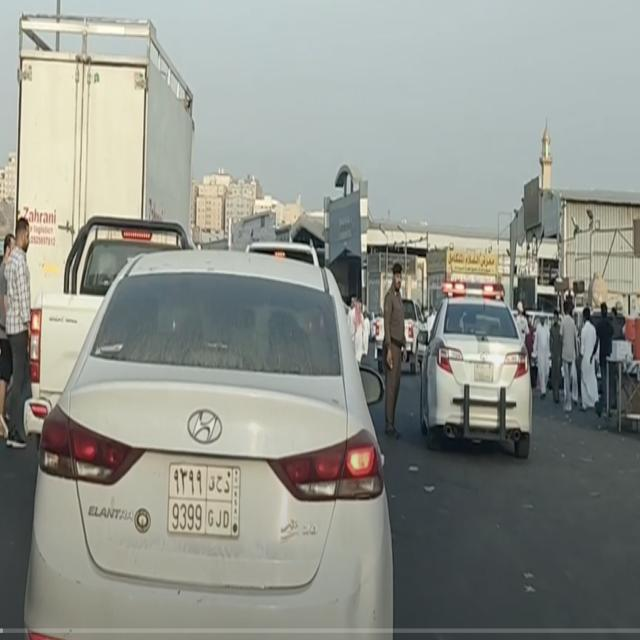license_plate: (165, 462, 244, 540), (474, 362, 494, 383)
